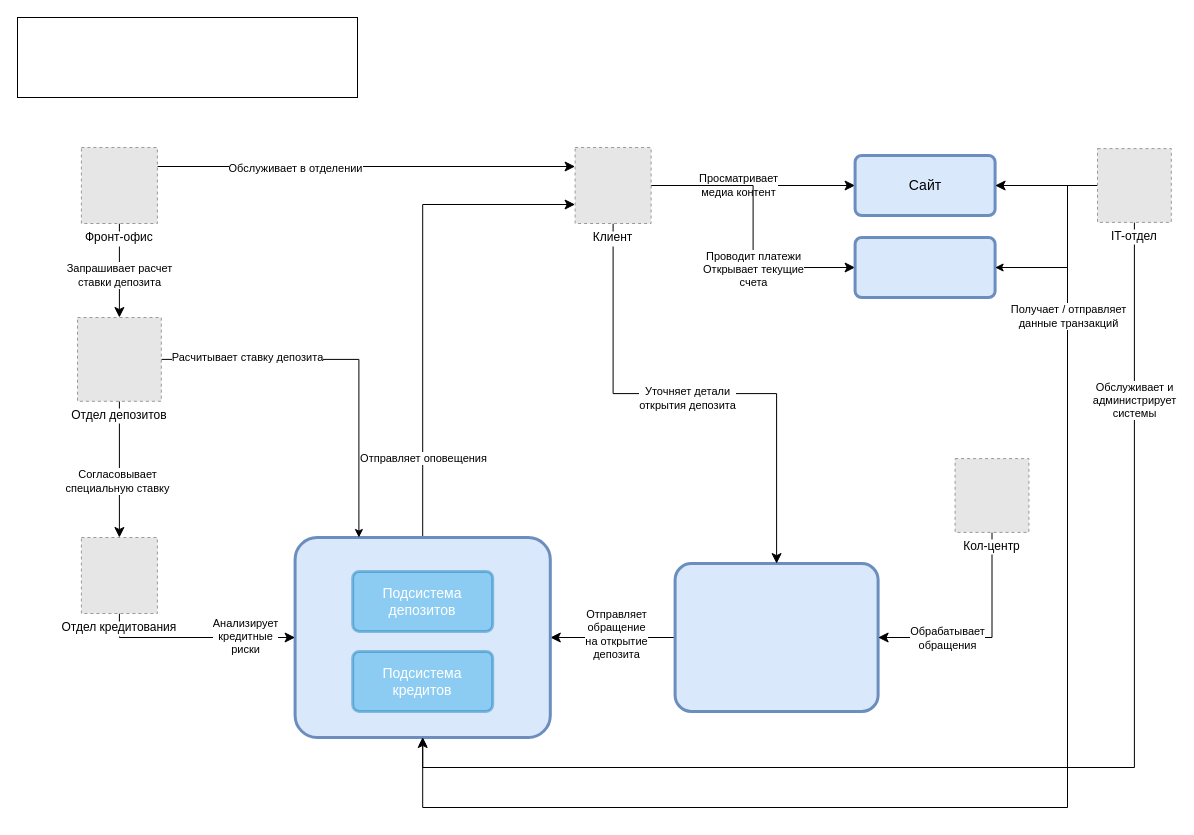
This 1194x835 diagram has some shape labels left out. Grey dashed boxes stand in for pictures. The shapes that lost their labels are listed below. From the top down, each one's box as (x1, y1, x2, y2) in pixels, then its label:
(16, 16, 358, 98): Схема интеграций приложений
(853, 236, 996, 298): Интернет-банк
(293, 536, 551, 738): Система АБС
(673, 562, 879, 712): Система кол-центра
